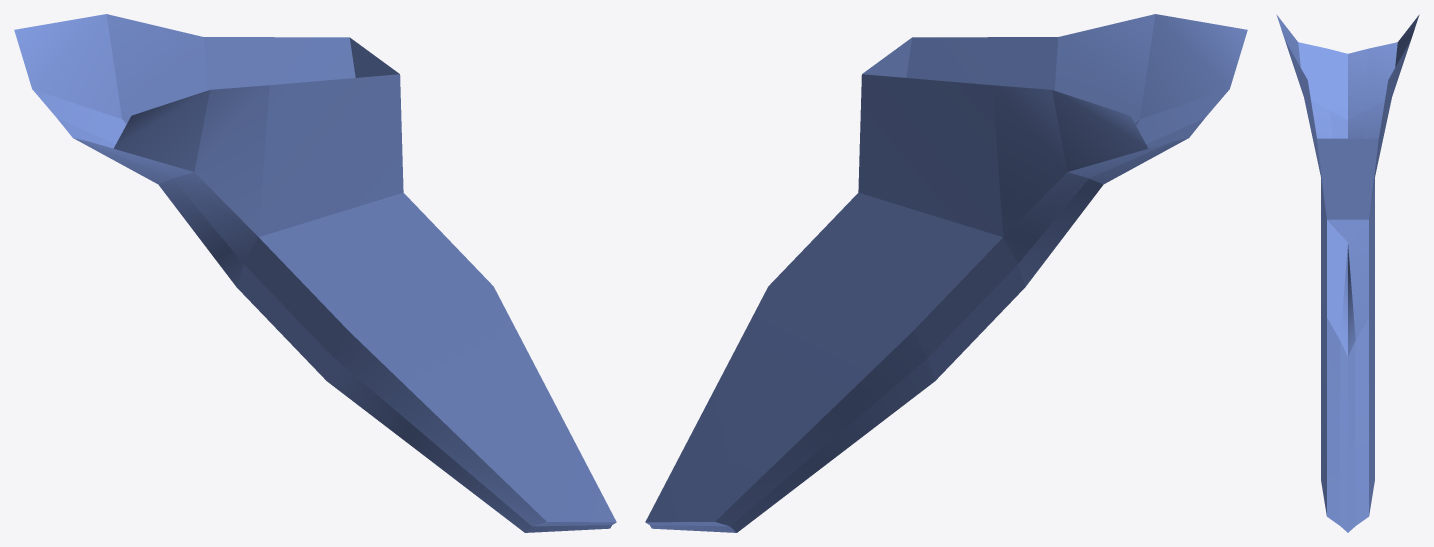
Rendered from BackFin_Bottom.obj.
3 views of the same model, side by side, from view 1: azimuth 30°, elevation 25°; view 2: azimuth 150°, elevation 25°; view 3: azimuth 270°, elevation 25° (orthographic). The views are drawn at different scales.
Parts seen in each view (by area): view 1: polySurface7 pCylinder5; view 2: polySurface7 pCylinder5; view 3: polySurface7 pCylinder5.
Boxes of the visible parts, x1,y1,x2,y2 form: polySurface7 pCylinder5: (14, 14, 616, 532); polySurface7 pCylinder5: (645, 14, 1247, 532); polySurface7 pCylinder5: (1276, 14, 1419, 532).
Size of the model in its own units: 3.77 by 3.94 by 1.43.
